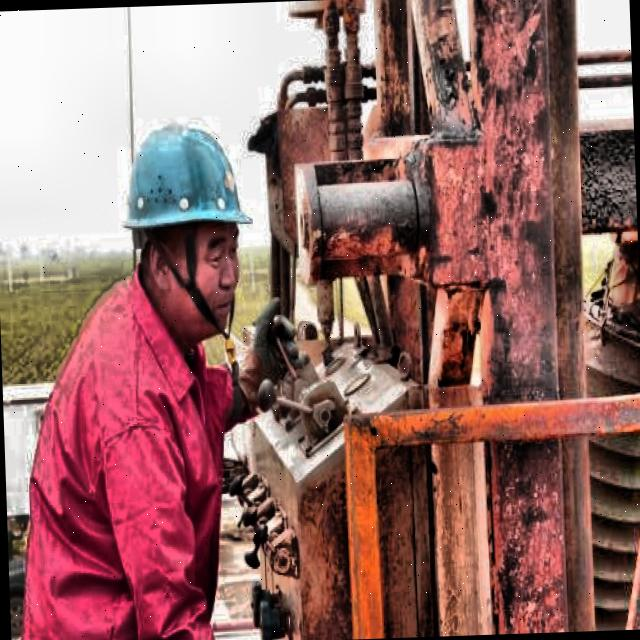helmet: (106, 92, 266, 354)
